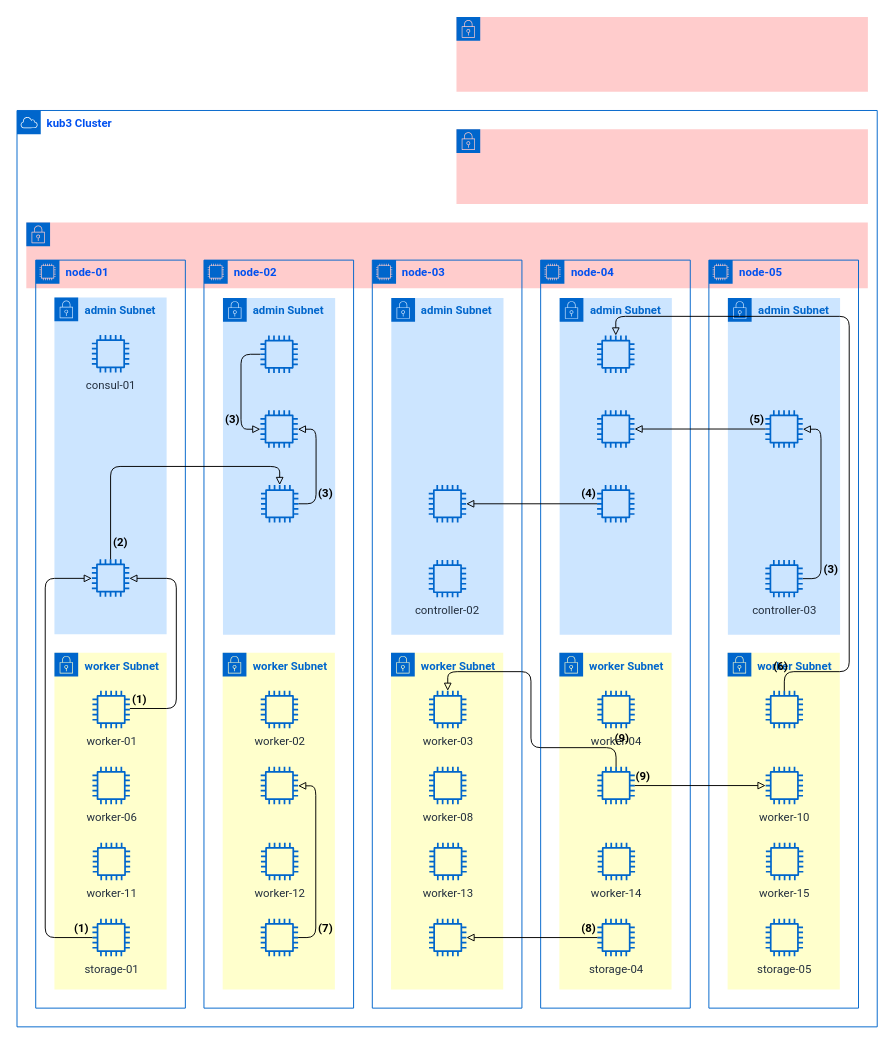
The diagram is 894 pixels wide and 1043 high, and some of its shapes have lost their labels. The shapes that lost their labels are listed below. From the top down, each one's box as (x1, y1, x2, y2) in pixels, then its label:
(456, 16, 868, 92): network Subnet
(456, 128, 868, 204): services Subnet
(25, 222, 868, 288): nodes Subnet
(259, 335, 298, 373): consul-02
(596, 335, 635, 373): consul-03
(259, 409, 298, 448): vault-01
(596, 409, 635, 448): vault-02
(764, 409, 803, 448): valut-03
(260, 484, 298, 522): etcd-01
(428, 484, 466, 522): etcd-02
(596, 484, 635, 522): etc-03
(91, 558, 129, 597): controller-01
(765, 690, 803, 728): worker-05
(260, 766, 298, 804): worker-07
(596, 766, 635, 804): worker-09
(260, 918, 298, 956): storage-02
(428, 918, 466, 956): storage-03
